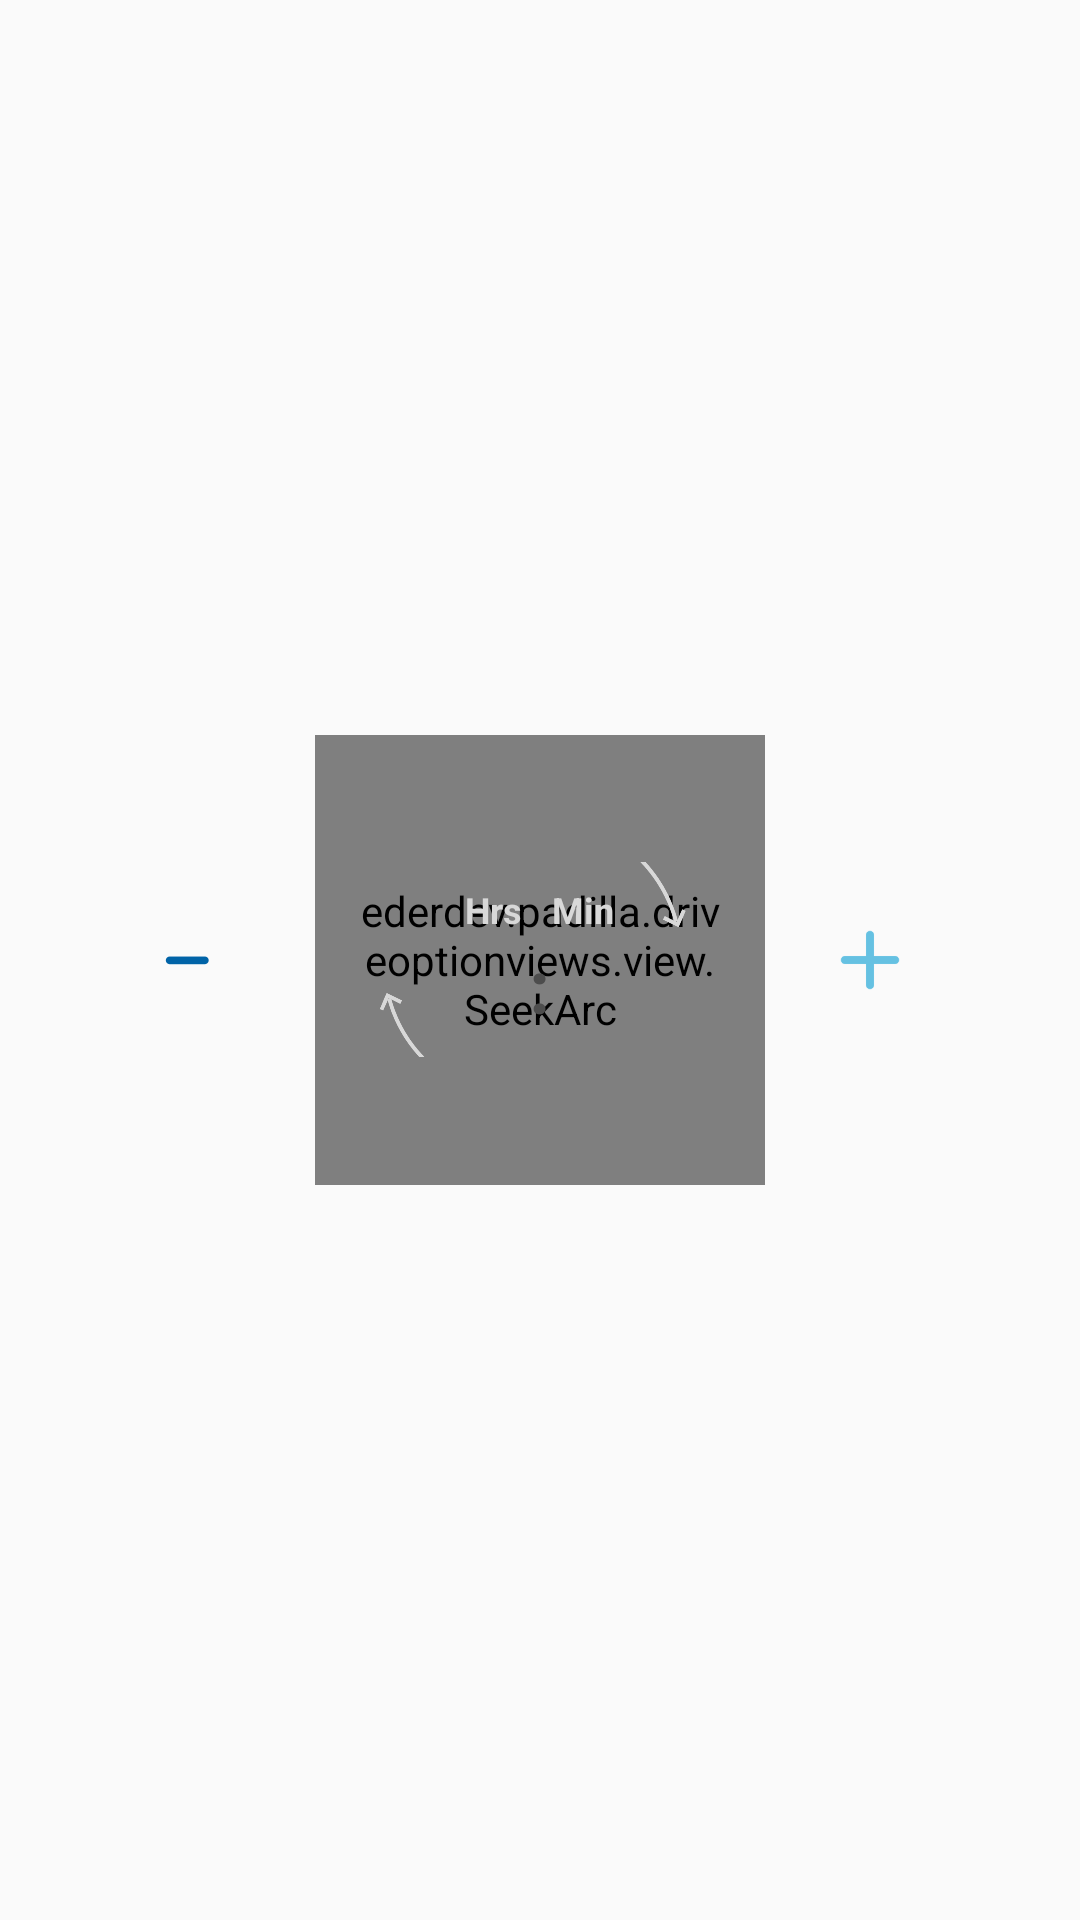

Screen size 1080x1920. Icon name, then its center in pixels as [x,y]:
Agregar dinero: [870,960]
